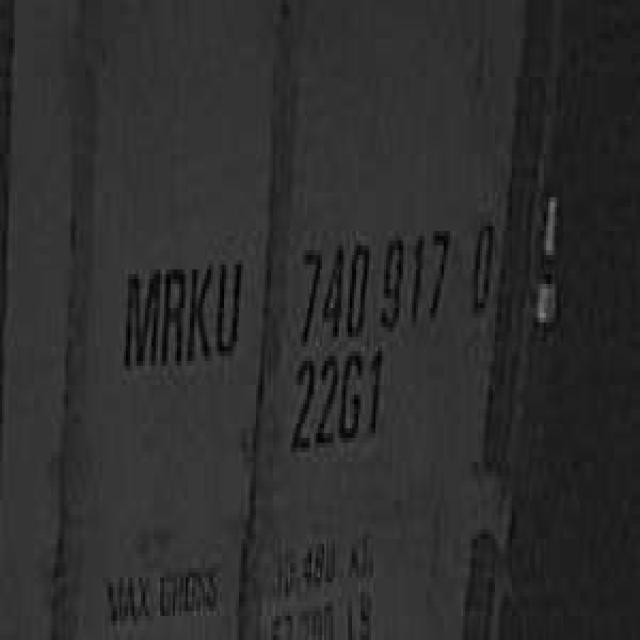dv: (465, 202, 499, 323)
owner: (117, 241, 245, 380)
serial: (292, 207, 454, 346)
size: (283, 341, 391, 462)
